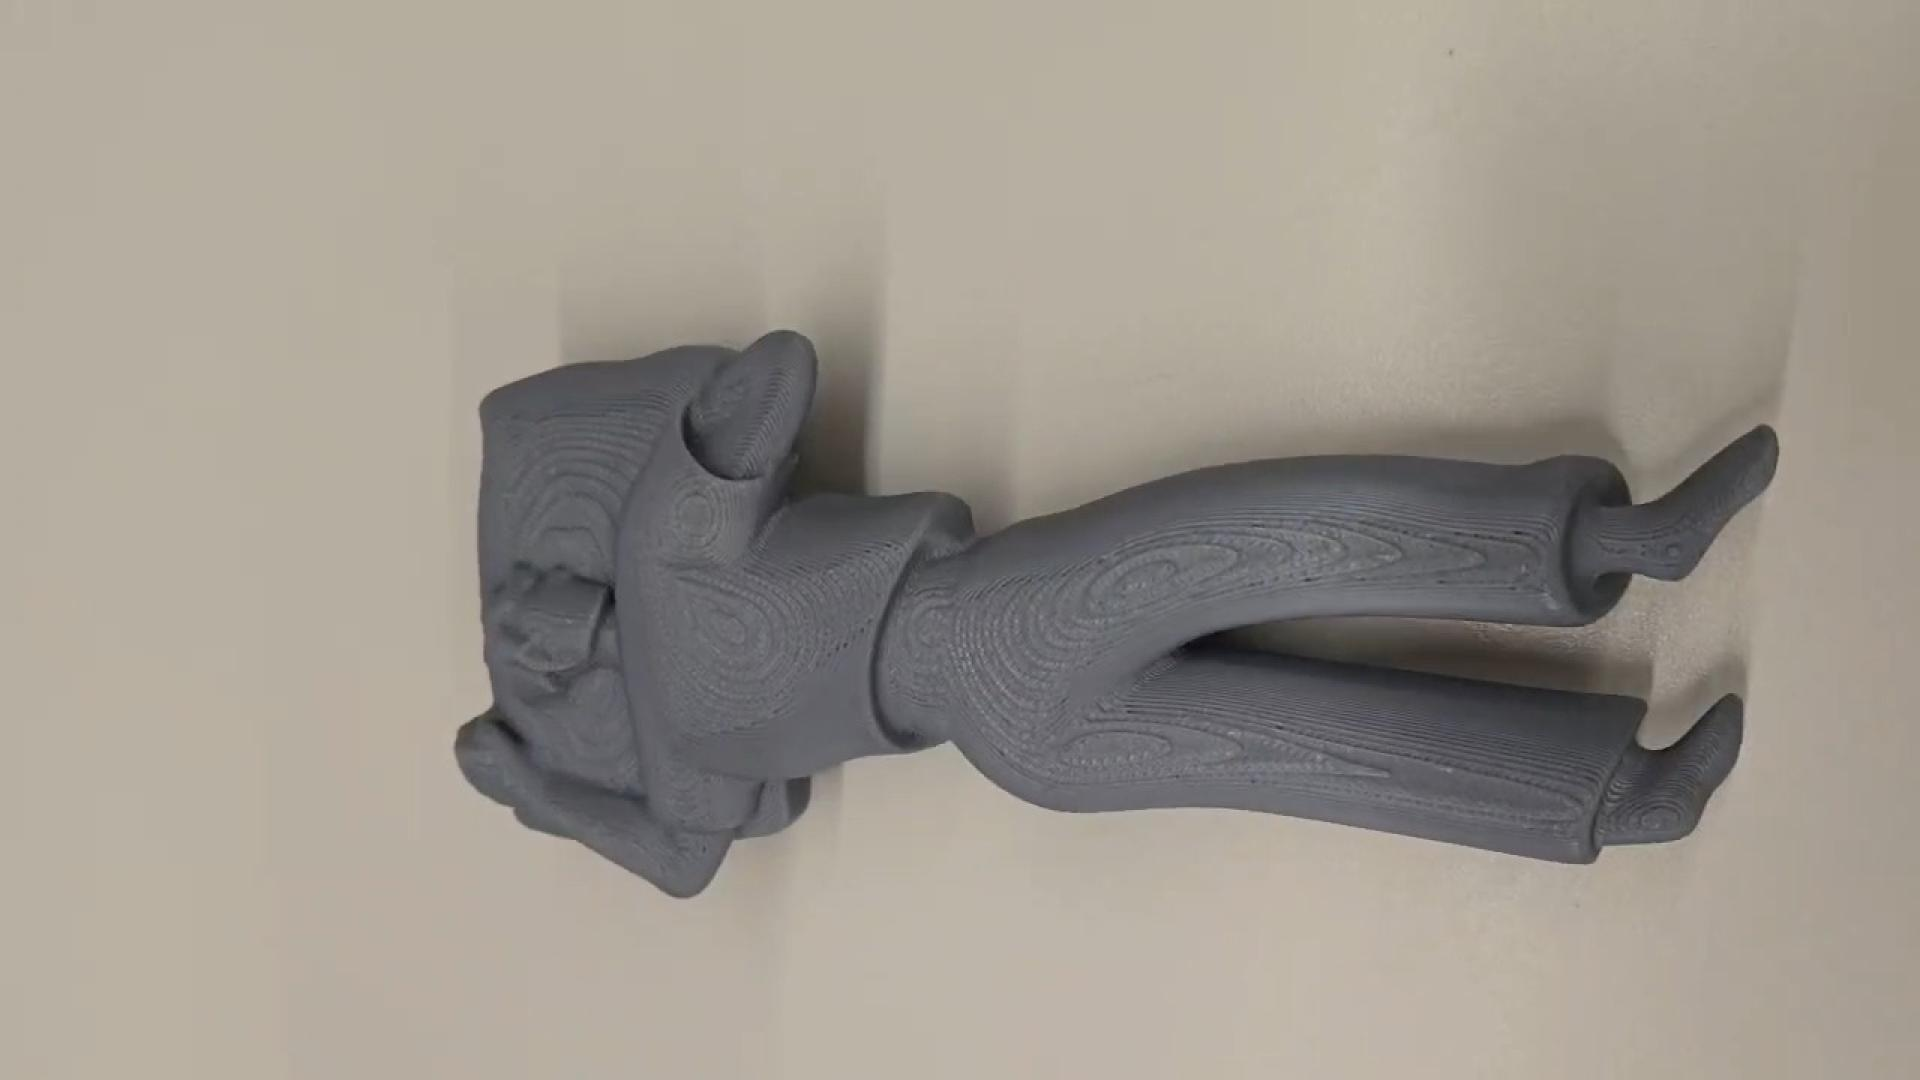Bad-style: (448, 324, 1783, 899)
